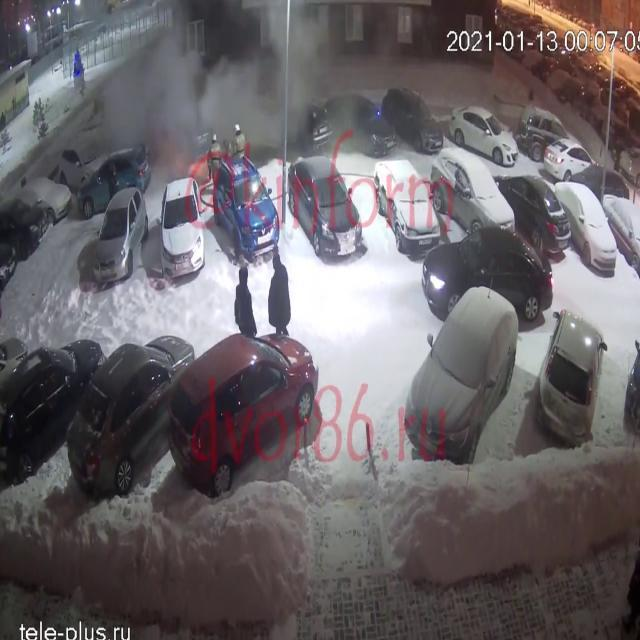Smoke: (111, 0, 339, 167)
